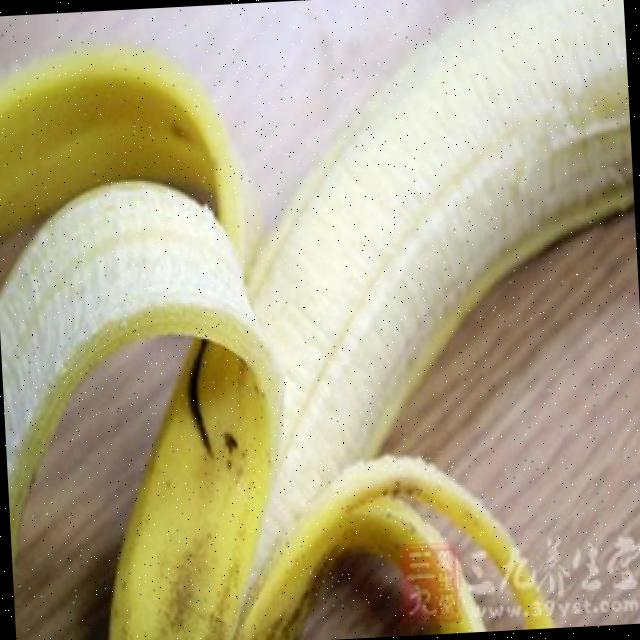banana-peel: (0, 0, 640, 640), (0, 170, 295, 640)
